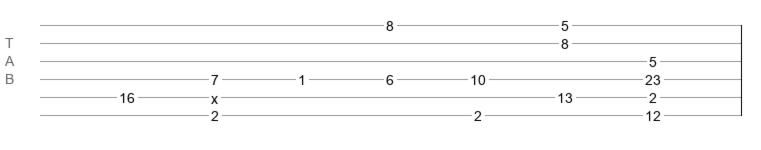1: (298, 72, 306, 82)
10: (470, 72, 486, 82)
12: (645, 108, 661, 118)
13: (557, 90, 573, 100)
16: (119, 90, 135, 100)
2: (211, 108, 219, 118), (474, 108, 482, 118), (649, 90, 657, 100)
23: (645, 72, 661, 82)
5: (561, 18, 569, 28), (649, 54, 657, 64)
6: (386, 72, 394, 82)
7: (211, 72, 219, 82)
8: (386, 18, 394, 28), (561, 36, 569, 46)
x: (211, 91, 218, 99)
